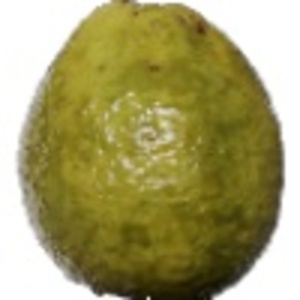goiaba: (6, 1, 292, 298)
